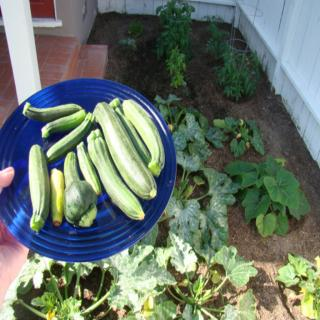Cucumber: (27, 101, 165, 226)
